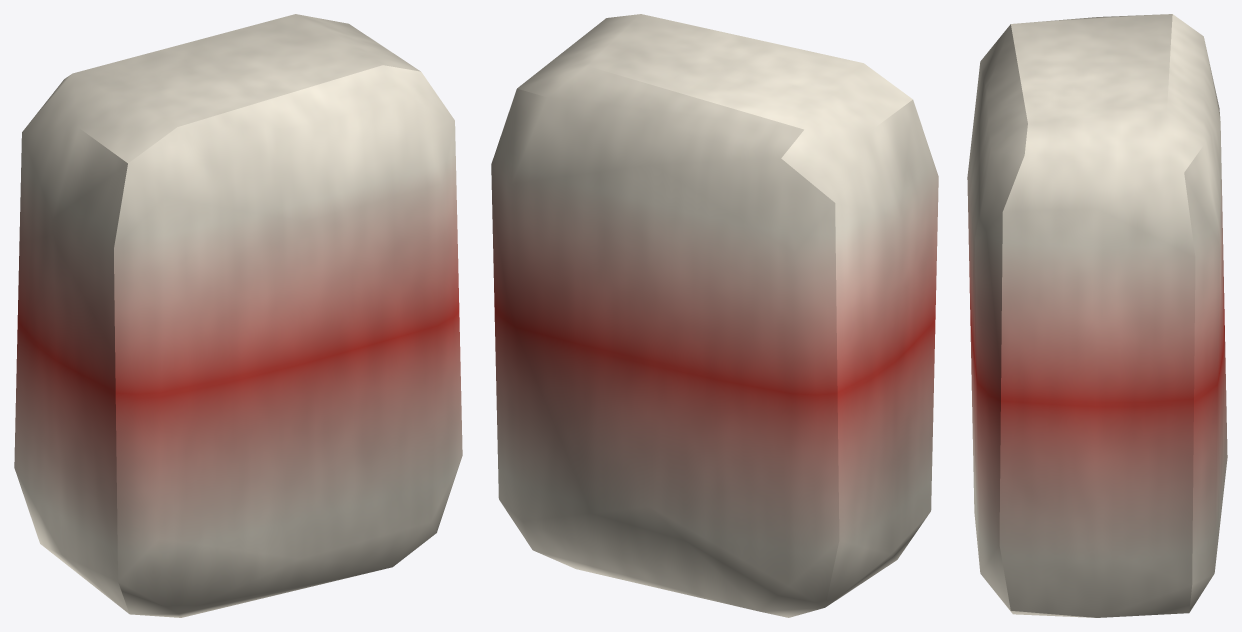
The model's file is Item_Rice.fbx.
The picture shows the model from 3 angles, left to right: view 1: azimuth 30°, elevation 25°; view 2: azimuth 150°, elevation 25°; view 3: azimuth 270°, elevation 25°; orthographic projection.
Visible parts, largest first — view 1: Item_Rice; view 2: Item_Rice; view 3: Item_Rice.
Boxes of the visible parts, x1,y1,x2,y2 form: Item_Rice: (14, 14, 462, 617); Item_Rice: (491, 14, 938, 617); Item_Rice: (967, 14, 1227, 617).
Bounding box in the file's own units: 0.2595 × 0.3385 × 0.1597.
Materials: 1 (1 with a texture image).
